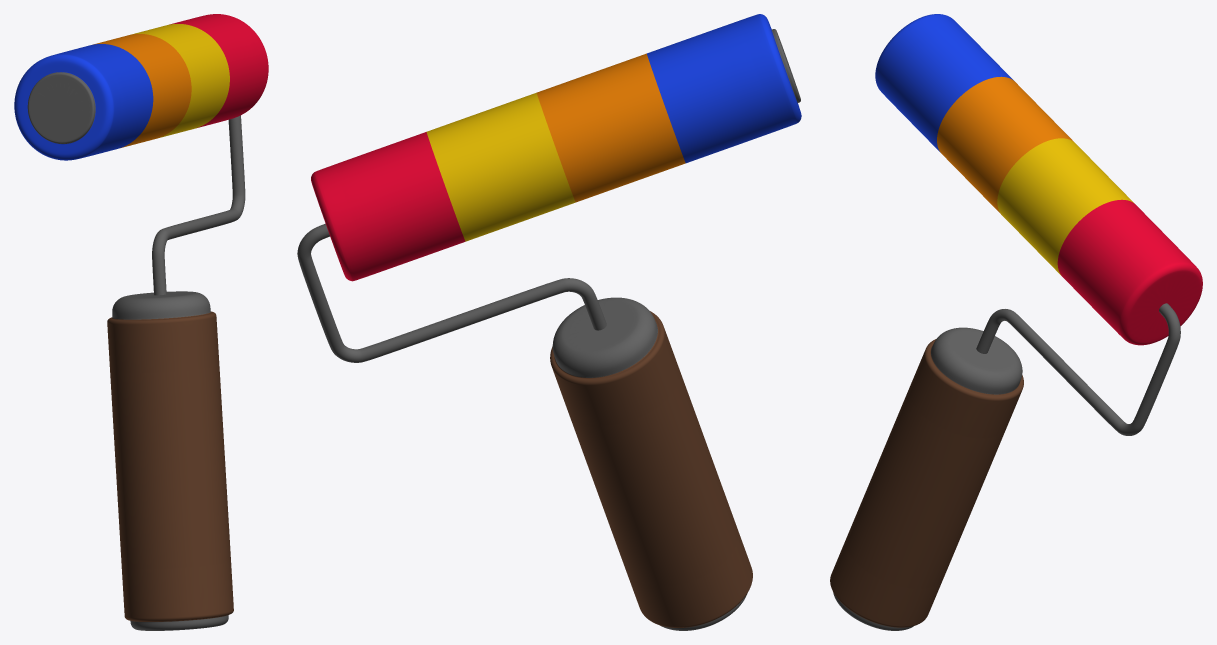
The model's file is paint_roller.glb.
3 views of the same model, side by side, from view 1: azimuth 30°, elevation 25°; view 2: azimuth 150°, elevation 25°; view 3: azimuth 270°, elevation 25° (orthographic). The views are drawn at different scales.
Parts seen in each view (by area): view 1: Cylinder.002; view 2: Cylinder.002; view 3: Cylinder.002.
Boxes of the visible parts, bbox=[...] form: Cylinder.002: bbox=[14, 14, 268, 630]; Cylinder.002: bbox=[297, 14, 801, 630]; Cylinder.002: bbox=[830, 14, 1202, 630].
Size of the model in its own units: 3.12 by 5.07 by 3.04.
